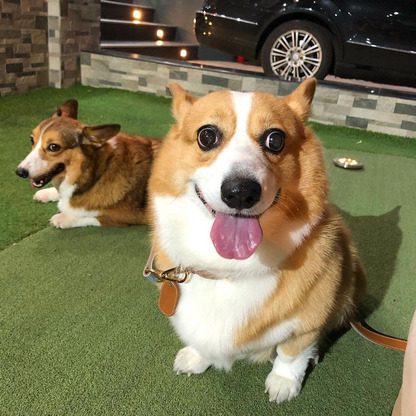Corgi: (157, 69, 364, 398), (16, 94, 149, 243)
